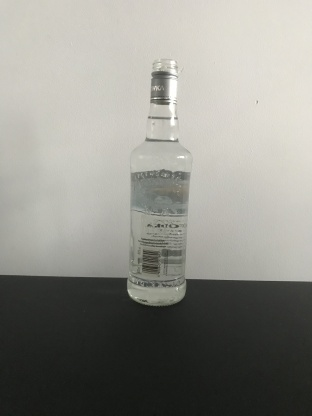nakretka: (148, 56, 180, 106)
